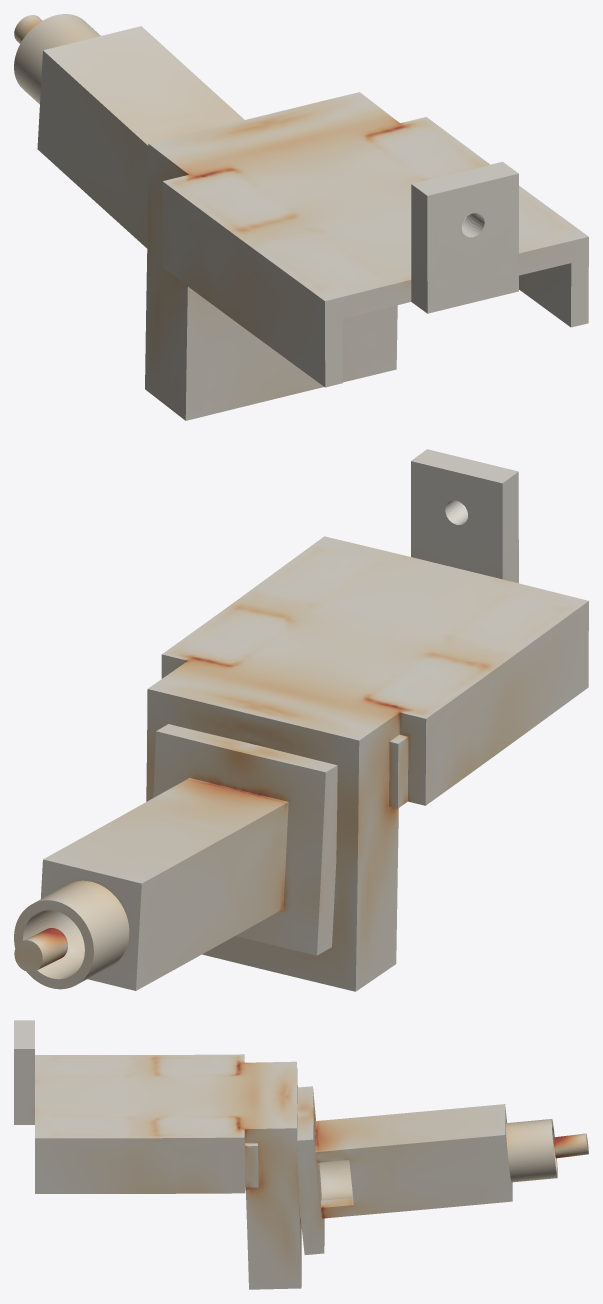
File: z_saddle_tab16_Fy_vm.glb
The picture shows the model from 3 angles, top to bottom: view 1: azimuth 30°, elevation 25°; view 2: azimuth 150°, elevation 25°; view 3: azimuth 270°, elevation 25°; orthographic projection. The views are drawn at different scales.
Visible parts, largest first — view 1: geometry_0; view 2: geometry_0; view 3: geometry_0.
Boxes of the visible parts, bbox=[...] form: geometry_0: bbox=[14, 14, 588, 420]; geometry_0: bbox=[14, 449, 588, 991]; geometry_0: bbox=[14, 1020, 588, 1289].
Bounding box in the file's own units: 150 × 187 × 438.
